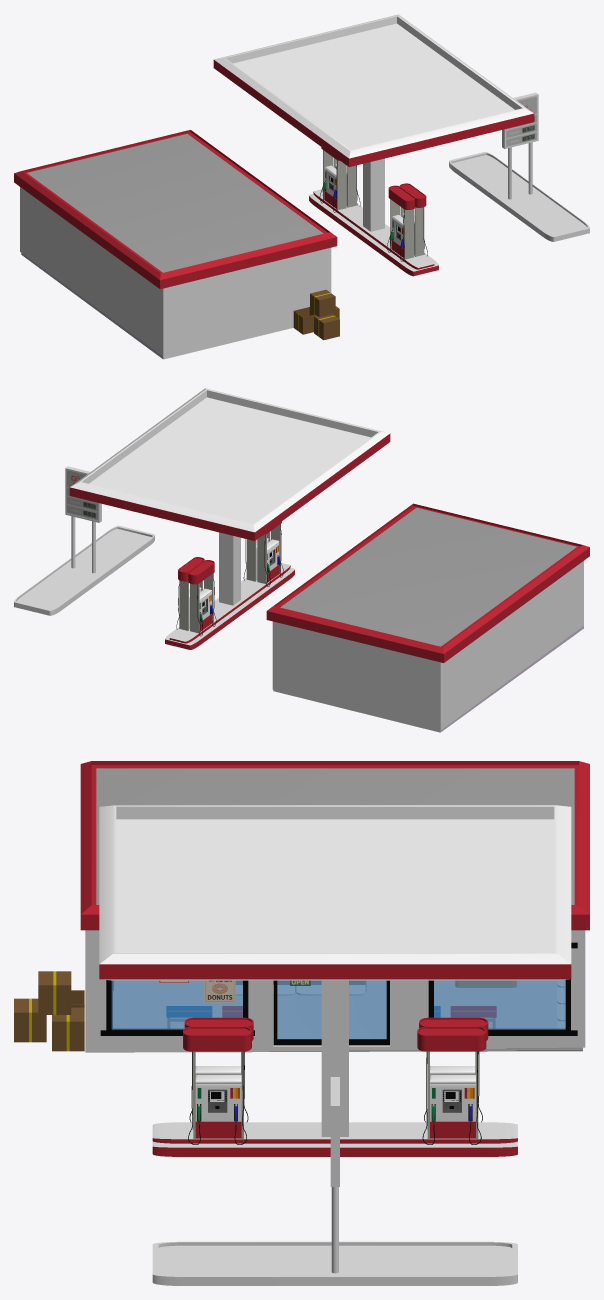
File: gas_station.glb
3 views of the same model, one above another, from view 1: azimuth 30°, elevation 25°; view 2: azimuth 150°, elevation 25°; view 3: azimuth 270°, elevation 25° (orthographic). The views are drawn at different scales.
Visible parts, largest first — view 1: Merged; view 2: Merged; view 3: Merged.
Part boxes in pixels (x1,y1,x2,y2): Merged: (14, 14, 589, 359); Merged: (14, 388, 589, 732); Merged: (14, 761, 589, 1285).
Bounding box in the file's own units: 31.11 × 10.17 × 19.65.
Materials: 5 (5 with a texture image).
